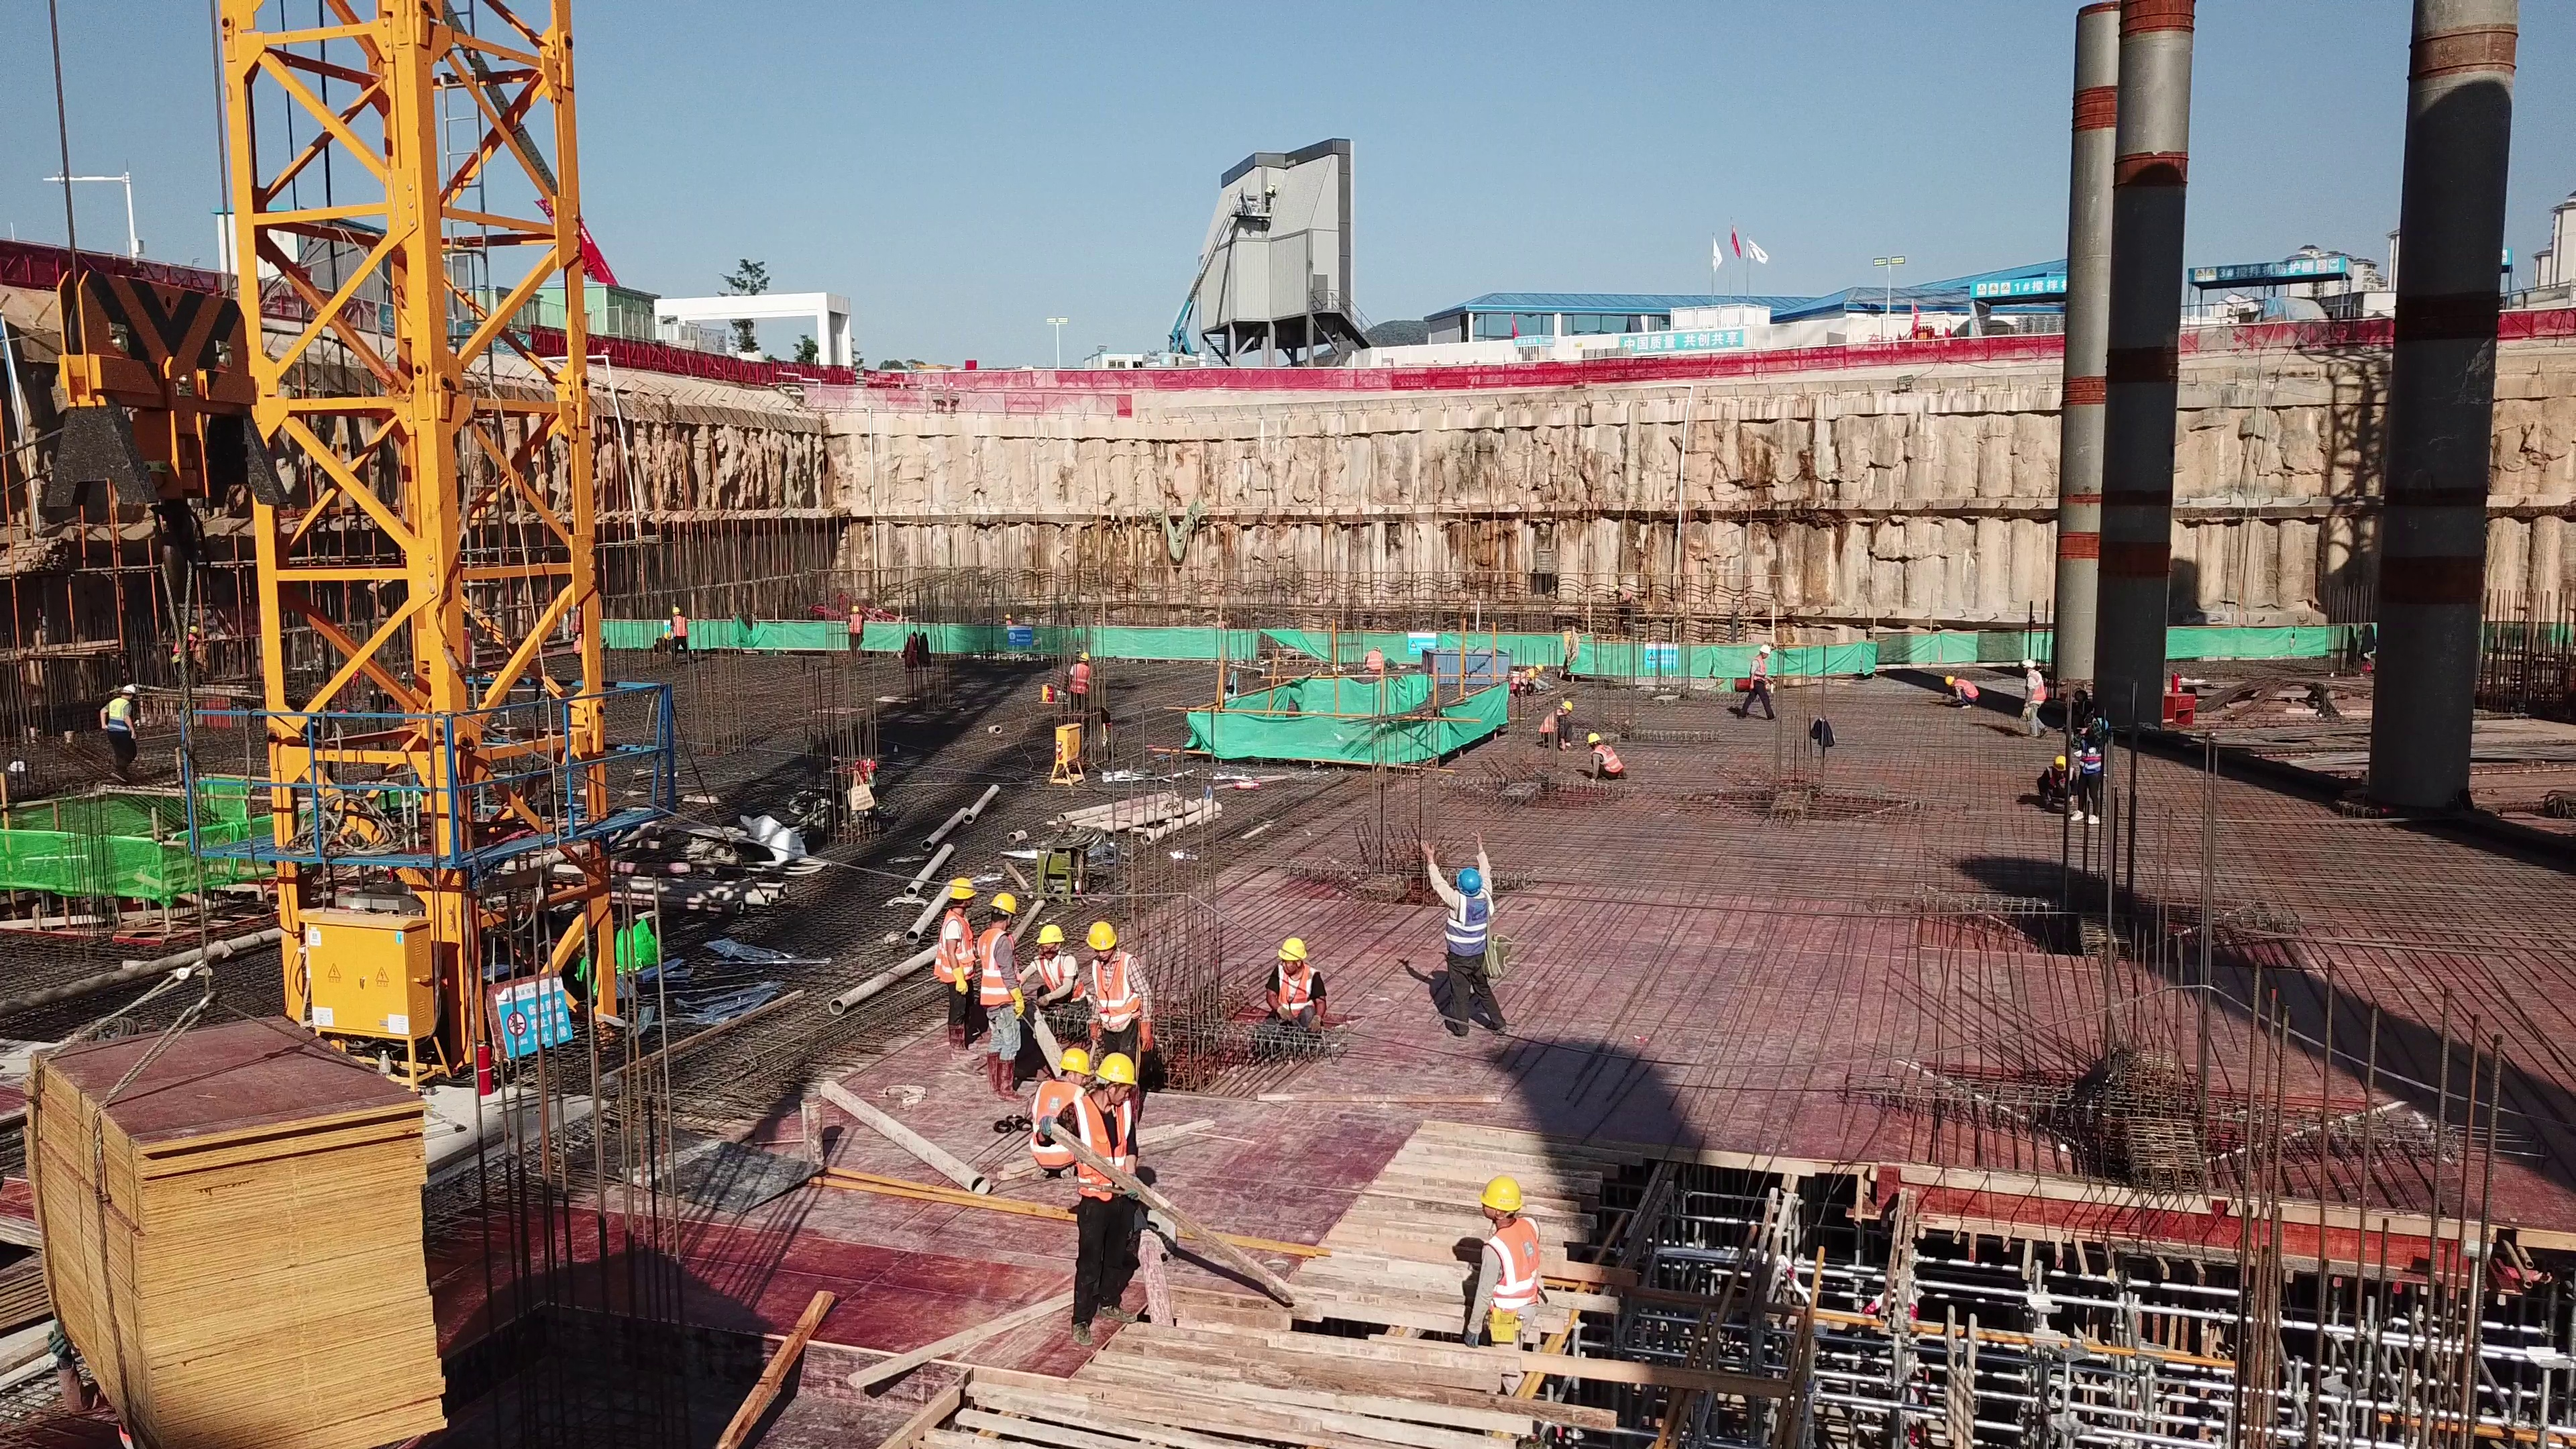helmet: (1477, 1173, 1532, 1211), (1097, 1053, 1128, 1087), (1057, 1042, 1089, 1072), (1089, 918, 1116, 953), (987, 883, 1018, 914), (942, 875, 974, 903), (1279, 930, 1307, 960), (1451, 870, 1482, 894), (1036, 922, 1069, 940), (2094, 712, 2112, 736), (2054, 752, 2069, 771), (1939, 676, 1953, 690), (2020, 659, 2037, 669), (1562, 699, 1576, 711), (1585, 731, 1601, 742), (121, 682, 137, 694), (187, 621, 199, 633), (1758, 642, 1772, 653), (669, 605, 681, 615), (1077, 651, 1088, 661), (848, 606, 861, 611), (1003, 611, 1011, 618)
person: (1077, 1060, 1152, 1342), (1424, 835, 1519, 1038), (1459, 1172, 1559, 1336), (973, 879, 1029, 1125), (1077, 910, 1163, 1062), (1022, 1034, 1091, 1189), (1249, 920, 1332, 1040), (928, 880, 975, 1065), (2074, 692, 2117, 828), (1024, 922, 1087, 1014), (1725, 627, 1782, 724), (101, 676, 143, 792), (1932, 668, 2001, 720), (2016, 645, 2052, 733), (1064, 643, 1104, 721), (1585, 726, 1635, 785), (663, 603, 707, 667), (2037, 739, 2074, 812), (1538, 696, 1579, 755), (835, 603, 874, 668), (1513, 657, 1546, 697), (563, 619, 593, 663), (1361, 643, 1392, 681), (1611, 580, 1644, 614)
vest: (1079, 1096, 1136, 1198), (1025, 1077, 1084, 1172), (1487, 1223, 1546, 1312), (1095, 958, 1148, 1033), (929, 914, 976, 989), (1448, 890, 1491, 959), (1265, 970, 1320, 1023), (974, 929, 1008, 1002), (1038, 959, 1083, 1005), (2078, 731, 2101, 774), (2043, 769, 2073, 798), (105, 698, 131, 731), (2021, 673, 2044, 701), (1595, 747, 1618, 773), (1955, 679, 1983, 700), (1074, 662, 1090, 695), (1543, 709, 1562, 734), (849, 613, 867, 640), (174, 636, 197, 654), (669, 617, 687, 638), (1750, 657, 1765, 681)
